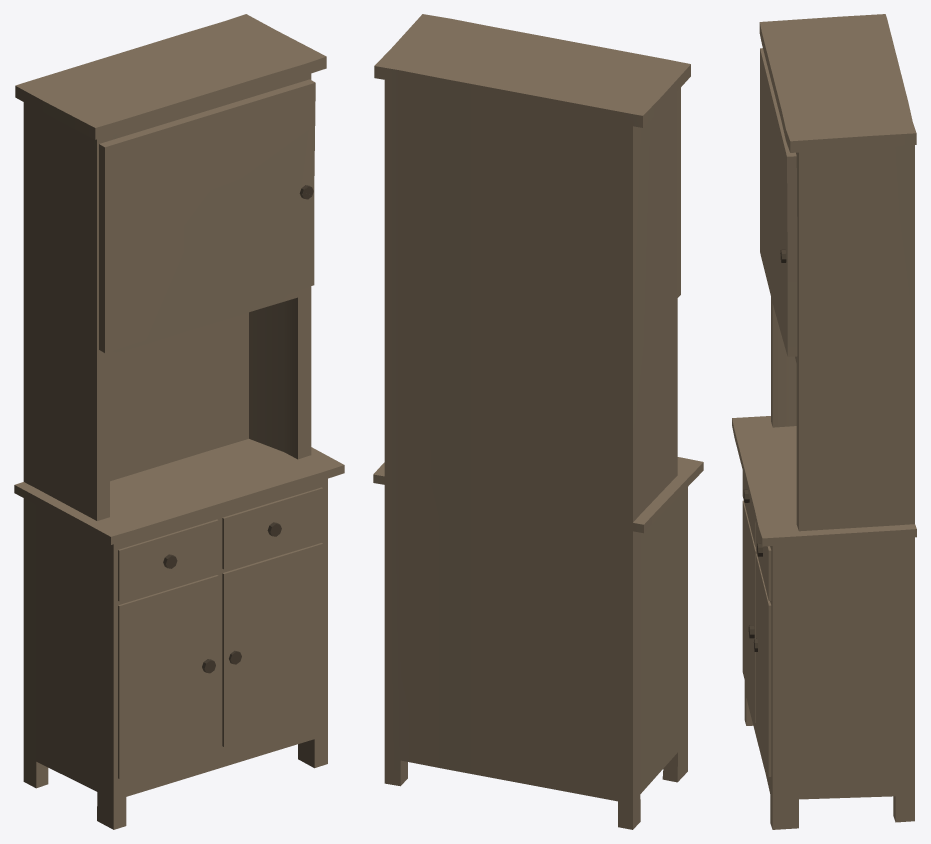
File: Hutch 1.1 .fbx
The picture shows the model from 3 angles, left to right: view 1: azimuth 30°, elevation 25°; view 2: azimuth 150°, elevation 25°; view 3: azimuth 270°, elevation 25°; orthographic projection. The views are drawn at different scales.
Parts seen in each view (by area): view 1: pasted__Hutch, pasted__Hutch_Door; view 2: pasted__Hutch, pasted__Hutch_Door; view 3: pasted__Hutch, pasted__Hutch_Door.
Boxes of the visible parts, box(x1,y1,x2,y2) form: pasted__Hutch: box(14, 14, 344, 829); pasted__Hutch_Door: box(99, 79, 315, 352); pasted__Hutch: box(373, 14, 703, 829); pasted__Hutch_Door: box(677, 88, 680, 297); pasted__Hutch: box(732, 14, 916, 829); pasted__Hutch_Door: box(760, 48, 797, 356).
Bounding box in the file's own units: 17.8 × 44.35 × 10.73.
